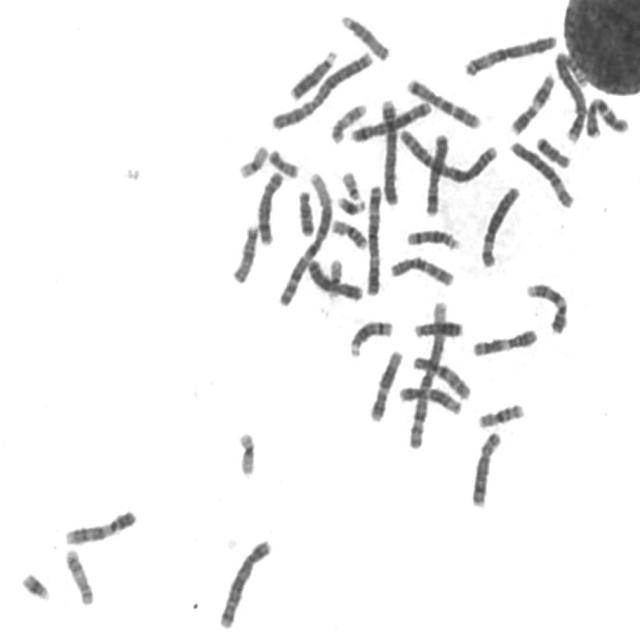A1: (274, 167, 337, 307), (404, 293, 451, 452)
A2: (268, 45, 377, 132), (394, 122, 499, 184)
A3: (460, 28, 560, 78), (362, 178, 384, 297)
B4: (550, 45, 588, 144), (377, 92, 402, 207)
B5: (215, 532, 274, 630), (346, 95, 434, 143)
C10: (410, 350, 473, 402), (386, 250, 457, 288)
C11: (507, 68, 558, 136), (468, 322, 541, 358)
C12: (366, 344, 405, 424), (395, 379, 464, 416)
C6: (507, 135, 577, 210), (476, 181, 523, 269)
C7: (402, 73, 484, 130), (582, 92, 632, 139)
C8: (467, 425, 504, 510), (254, 164, 286, 247)
C9: (60, 504, 140, 547), (522, 276, 571, 336)
D13: (286, 44, 340, 102), (410, 316, 466, 340)
D14: (346, 314, 396, 358), (402, 224, 463, 252)
D15: (337, 9, 392, 61), (228, 219, 260, 285)
E16: (474, 398, 527, 429), (328, 214, 370, 251)
E17: (61, 544, 96, 608), (327, 97, 369, 146)
E18: (531, 130, 573, 170), (294, 185, 316, 238)
F19: (234, 138, 270, 180), (233, 426, 259, 478)
F20: (556, 51, 595, 88), (264, 143, 302, 180)
G21: (16, 566, 52, 602), (333, 190, 367, 217)
G22: (338, 166, 364, 203), (324, 258, 344, 304)
X: (303, 254, 364, 302), (422, 129, 452, 217)
